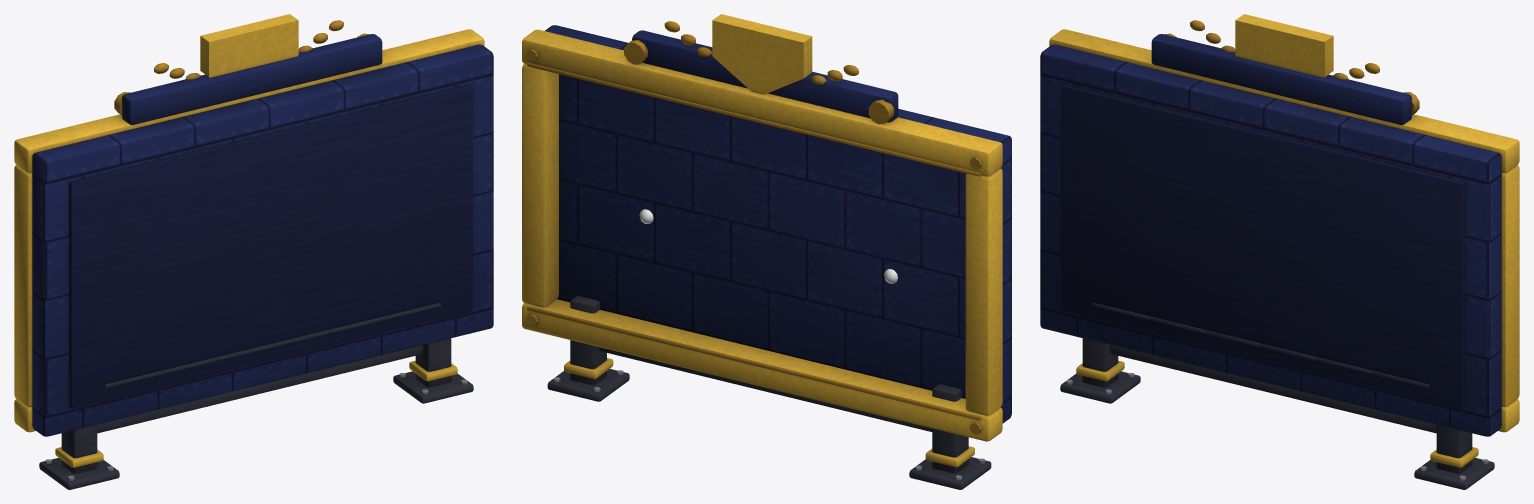
The model's file is Board.fbx.
3 views of the same model, side by side, from view 1: azimuth 30°, elevation 25°; view 2: azimuth 150°, elevation 25°; view 3: azimuth 330°, elevation 25° (orthographic). The views are drawn at different scales.
Parts seen in each view (by area): view 1: PlazaBoardBody.001; view 2: PlazaBoardBody.001; view 3: PlazaBoardBody.001.
Part boxes in pixels (bbox=[...]): PlazaBoardBody.001: bbox=[14, 14, 493, 489]; PlazaBoardBody.001: bbox=[522, 14, 1011, 489]; PlazaBoardBody.001: bbox=[1040, 14, 1519, 489].
Size of the model in its own units: 24.6 by 20.4 by 3.06.
Materials: 1 (1 with a texture image).
